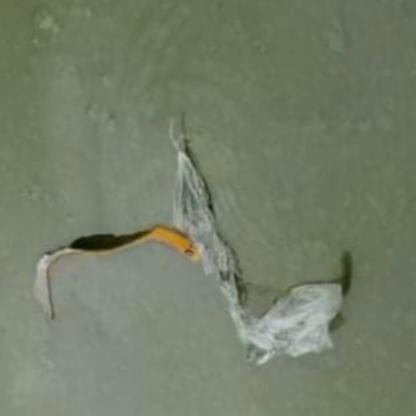Trash: (169, 112, 368, 380), (31, 211, 202, 334)
